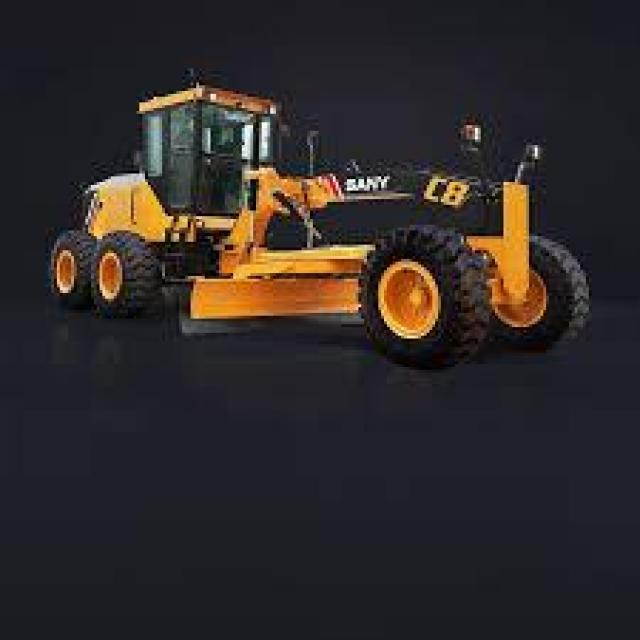Grader: (37, 34, 583, 381)
